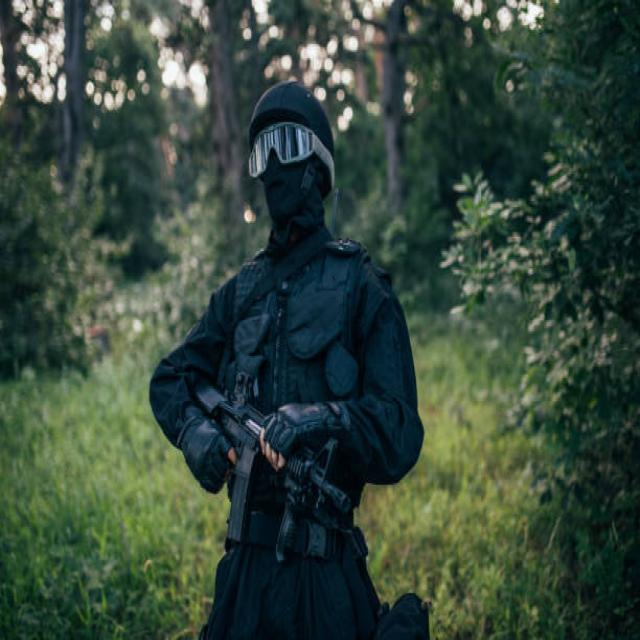soldier: (149, 83, 431, 640)
